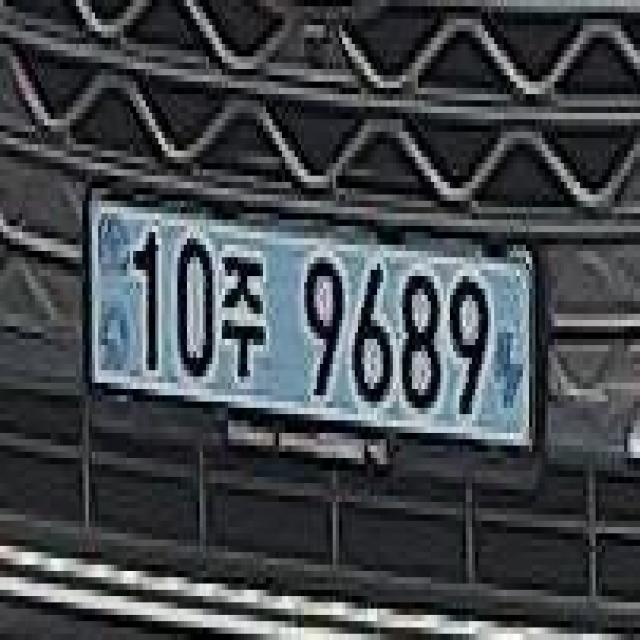EV_plate: (85, 165, 543, 492)
